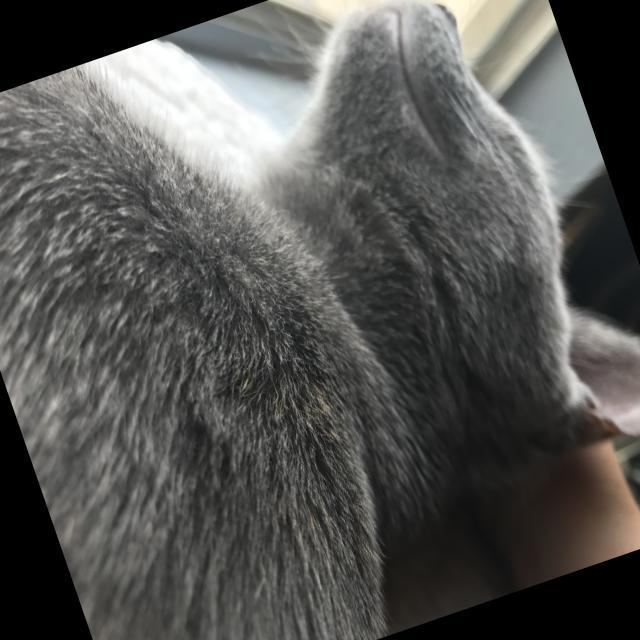Healthy skin: (68, 297, 370, 614), (348, 211, 540, 406), (0, 166, 138, 348), (318, 97, 444, 235), (132, 198, 225, 308)
